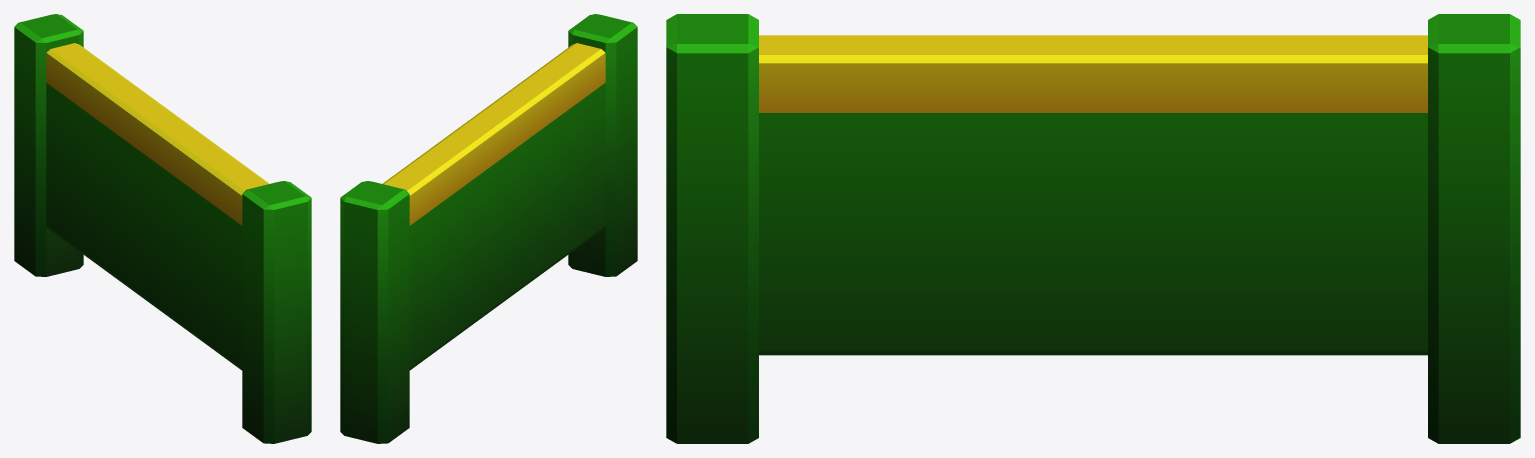
The model's file is Park Sign.glb.
The picture shows the model from 3 angles, left to right: view 1: azimuth 30°, elevation 25°; view 2: azimuth 150°, elevation 25°; view 3: azimuth 270°, elevation 25°; orthographic projection. The views are drawn at different scales.
Visible parts, largest first — view 1: Park Sign; view 2: Park Sign; view 3: Park Sign.
Boxes of the visible parts, x1,y1,x2,y2 form: Park Sign: [14, 14, 311, 443]; Park Sign: [340, 14, 637, 443]; Park Sign: [666, 14, 1520, 443].
Size of the model in its own units: 0.4367 by 2.05 by 4.02.
1 material, 1 textured.
